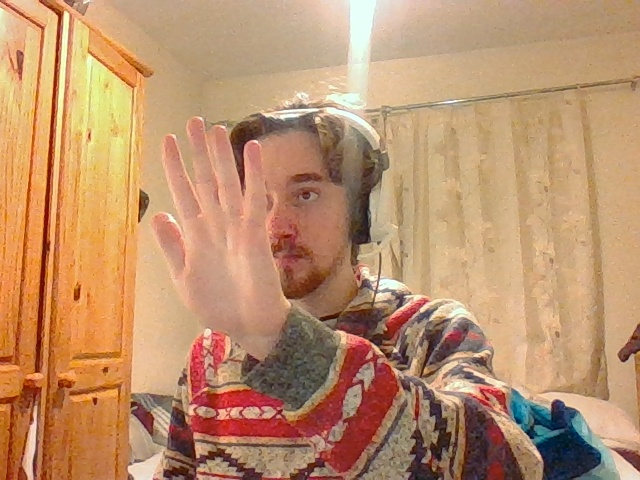hello: (150, 117, 270, 343)
